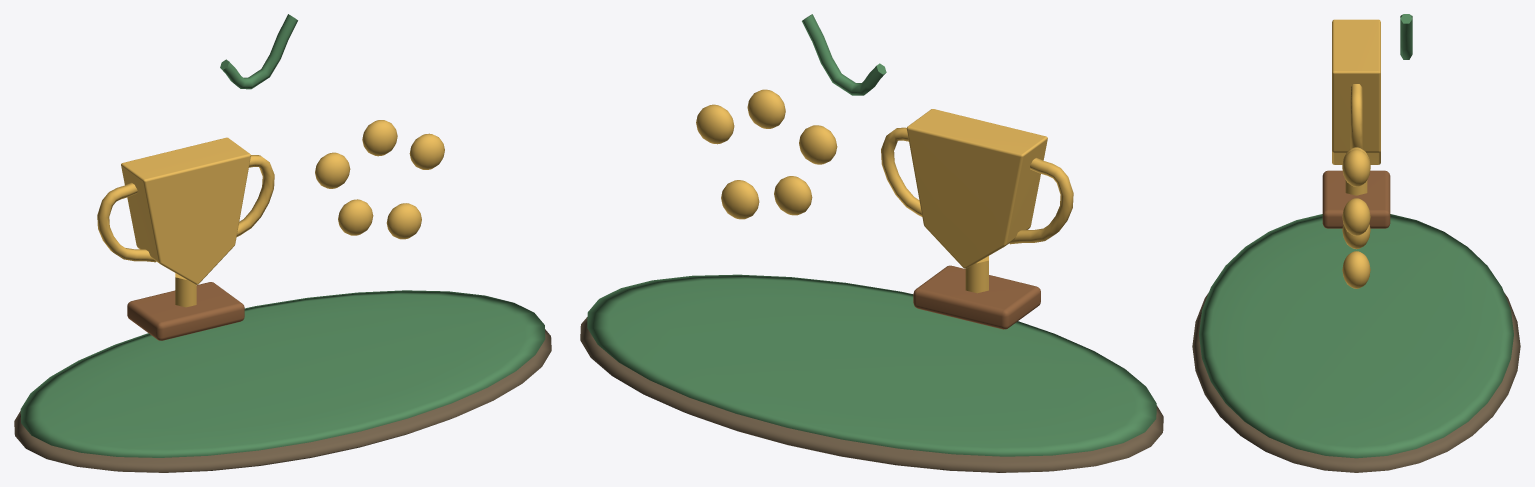
File: complete-third-excellent-point.glb
The picture shows the model from 3 angles, left to right: view 1: azimuth 30°, elevation 25°; view 2: azimuth 150°, elevation 25°; view 3: azimuth 270°, elevation 25°; orthographic projection. The views are drawn at different scales.
Visible parts, largest first — view 1: complete-third-excellent-point_surface_01, complete-third-excellent-point_surface_02, complete-third-excellent-point_surface_00, complete-third-excellent-point_surface_03; view 2: complete-third-excellent-point_surface_01, complete-third-excellent-point_surface_02, complete-third-excellent-point_surface_00, complete-third-excellent-point_surface_03; view 3: complete-third-excellent-point_surface_01, complete-third-excellent-point_surface_02, complete-third-excellent-point_surface_00, complete-third-excellent-point_surface_03.
Boxes of the visible parts, bbox=[...] form: complete-third-excellent-point_surface_01: bbox=[20, 14, 545, 457]; complete-third-excellent-point_surface_02: bbox=[97, 120, 444, 307]; complete-third-excellent-point_surface_00: bbox=[14, 329, 551, 472]; complete-third-excellent-point_surface_03: bbox=[127, 282, 244, 340]; complete-third-excellent-point_surface_01: bbox=[587, 14, 1156, 456]; complete-third-excellent-point_surface_02: bbox=[696, 89, 1073, 293]; complete-third-excellent-point_surface_00: bbox=[580, 317, 1163, 472]; complete-third-excellent-point_surface_03: bbox=[913, 265, 1040, 329]; complete-third-excellent-point_surface_01: bbox=[1199, 14, 1513, 458]; complete-third-excellent-point_surface_02: bbox=[1332, 19, 1380, 288]; complete-third-excellent-point_surface_00: bbox=[1192, 292, 1520, 472]; complete-third-excellent-point_surface_03: bbox=[1322, 170, 1390, 228].
Bounding box in the file's own units: 4.56 × 3.05 × 2.5.
